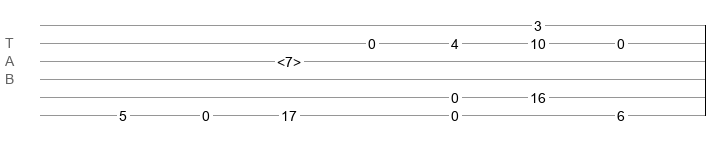0: (202, 108, 210, 118), (368, 36, 376, 46), (451, 108, 459, 118), (451, 90, 459, 100), (617, 36, 625, 46)
10: (530, 36, 546, 46)
16: (530, 90, 546, 100)
17: (281, 108, 297, 118)
3: (534, 18, 542, 28)
4: (451, 36, 459, 46)
5: (119, 108, 127, 118)
6: (617, 108, 625, 118)
harmonic: (277, 54, 301, 64)
